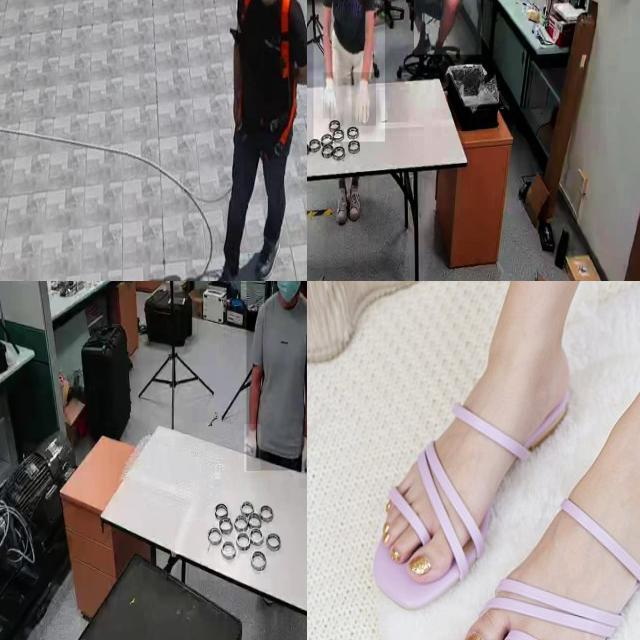Harness: (280, 0, 298, 148)
Sandals: (333, 302, 640, 640)
face_mask: (271, 281, 302, 304)
hand_glove: (352, 72, 376, 126), (244, 424, 261, 473), (323, 72, 336, 120), (299, 435, 307, 489)
person: (246, 281, 307, 471), (313, 0, 385, 142), (414, 0, 482, 55)
shoes: (346, 183, 364, 221), (333, 186, 349, 224)
